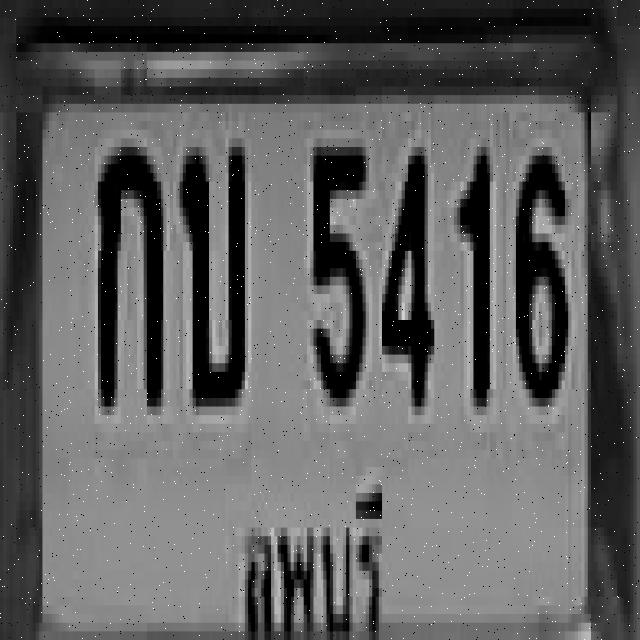1: (452, 124, 502, 467)
10GorGai: (84, 123, 174, 436)
35BorBaiMai: (172, 120, 250, 450)
4: (378, 105, 443, 438)
5: (293, 111, 379, 450)
6: (509, 113, 574, 435)
LopBuri: (226, 460, 414, 640)
